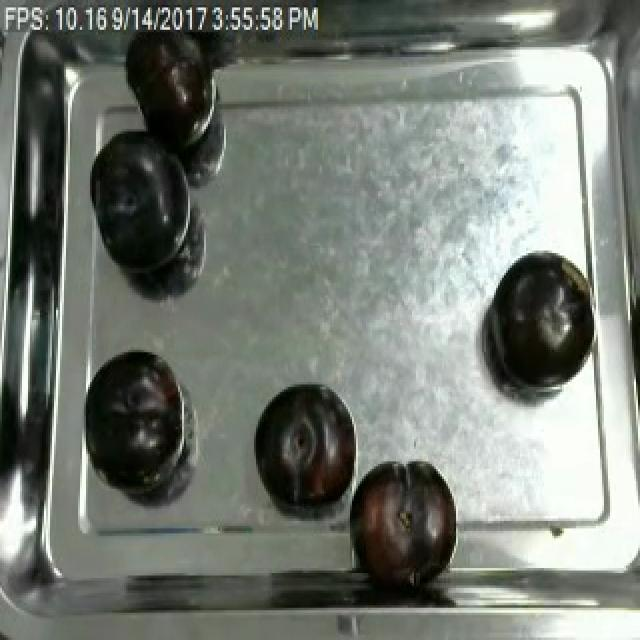Fruit: (84, 116, 198, 282), (484, 250, 596, 400), (348, 449, 460, 585), (250, 377, 360, 509), (80, 345, 184, 484)
